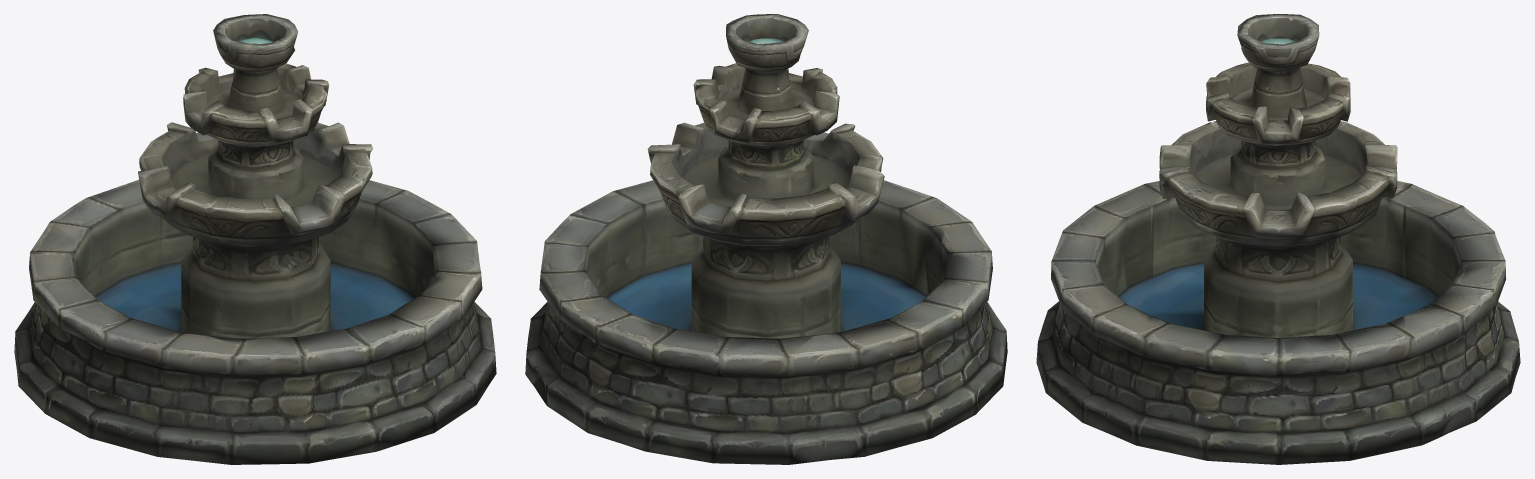
File: Fountain.fbx
3 renders of one model, left to right at view 1: azimuth 30°, elevation 25°; view 2: azimuth 150°, elevation 25°; view 3: azimuth 270°, elevation 25°, orthographic.
Parts seen in each view (by area): view 1: tripo_node_f8f0a047; view 2: tripo_node_f8f0a047; view 3: tripo_node_f8f0a047.
Part boxes in pixels (x1=…): tripo_node_f8f0a047: x1=14, y1=14, x2=496, y2=464; tripo_node_f8f0a047: x1=525, y1=14, x2=1007, y2=464; tripo_node_f8f0a047: x1=1036, y1=14, x2=1520, y2=464.
Size of the model in its own units: 1 by 0.7775 by 0.9996.
1 material, 1 textured.
